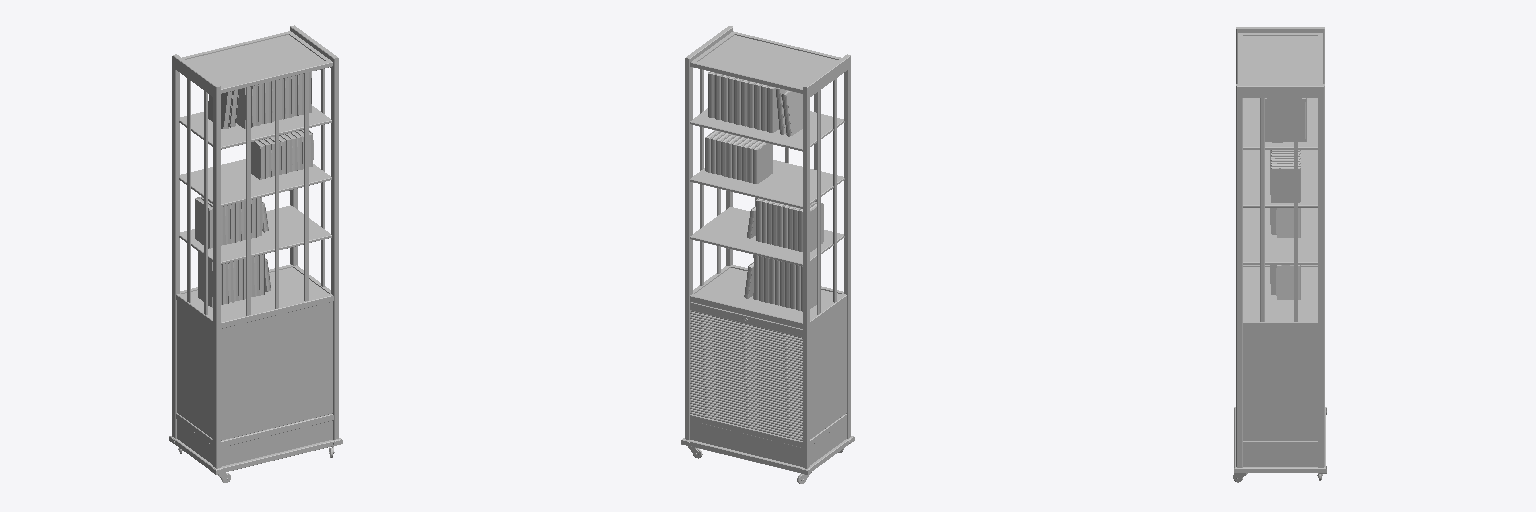
The model's file is reg2.obj.
The picture shows the model from 3 angles: view 1: azimuth 30°, elevation 25°; view 2: azimuth 150°, elevation 25°; view 3: azimuth 270°, elevation 25°; orthographic projection.
Parts seen in each view (by area): view 1: Box13, Rectangle02, Box09, Box03, Rectangle01, Box10, Box02, Box06, Object113, Object109, Object117, Object111 (+9 smaller); view 2: Rectangle07, Rectangle02, Box09, Box13, Box03, Object113, Rectangle01, Box10, Box02, Object117, Box06, Object109 (+9 smaller); view 3: Box13, Rectangle01, Box09, Box03, Box06, Box10, Box11, Object113, Box02, Object117, ChamferBox07, ChamferBox06 (+5 smaller).
Boxes of the visible parts, x1=… form: Box13: x1=177, y1=301, x2=332, y2=440; Rectangle02: x1=172, y1=54, x2=220, y2=468; Box09: x1=182, y1=31, x2=332, y2=93; Box03: x1=176, y1=264, x2=333, y2=328; Rectangle01: x1=290, y1=25, x2=338, y2=439; Box10: x1=179, y1=159, x2=331, y2=206; Box02: x1=177, y1=420, x2=332, y2=466; Box06: x1=179, y1=205, x2=331, y2=264; Object113: x1=236, y1=72, x2=311, y2=128; Object109: x1=198, y1=251, x2=264, y2=307; Object117: x1=251, y1=130, x2=313, y2=179; Object111: x1=195, y1=196, x2=262, y2=248; Rectangle07: x1=690, y1=310, x2=802, y2=440; Rectangle02: x1=803, y1=54, x2=850, y2=468; Box09: x1=690, y1=31, x2=840, y2=93; Box13: x1=810, y1=301, x2=846, y2=438; Box03: x1=690, y1=265, x2=846, y2=328; Object113: x1=708, y1=72, x2=778, y2=132; Rectangle01: x1=685, y1=26, x2=732, y2=439; Box10: x1=690, y1=160, x2=844, y2=208; Box02: x1=690, y1=420, x2=846, y2=466; Object117: x1=705, y1=130, x2=772, y2=183; Box06: x1=690, y1=207, x2=844, y2=266; Object109: x1=753, y1=255, x2=816, y2=311; Box13: x1=1243, y1=329, x2=1317, y2=440; Rectangle01: x1=1236, y1=84, x2=1324, y2=467; Box09: x1=1238, y1=33, x2=1322, y2=83; Box03: x1=1243, y1=265, x2=1317, y2=328; Box06: x1=1243, y1=208, x2=1317, y2=264; Box10: x1=1243, y1=150, x2=1317, y2=207; Box11: x1=1243, y1=98, x2=1317, y2=149; Object113: x1=1265, y1=98, x2=1306, y2=142; Box02: x1=1243, y1=448, x2=1317, y2=466; Object117: x1=1270, y1=150, x2=1300, y2=202; ChamferBox07: x1=1260, y1=98, x2=1264, y2=321; ChamferBox06: x1=1294, y1=98, x2=1297, y2=321.
Size of the model in its own units: 636 by 1916 by 410.